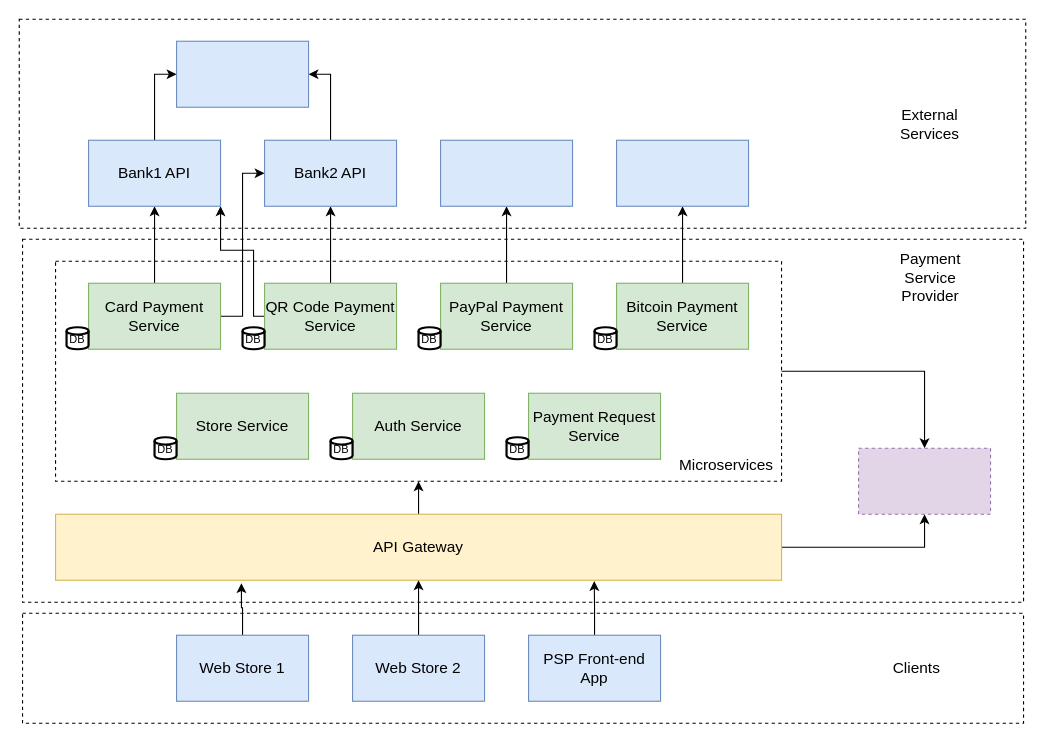
Image size: 1045x743. Some labels were removed from this diagram. The shapes that lost their labels are listed below. From the top down, each one's centre as x and y in pixels, then its label:
[242,73]: Payment Card Center
[506,172]: PayPal API
[682,172]: Bitcoin API
[924,480]: Service Registry
